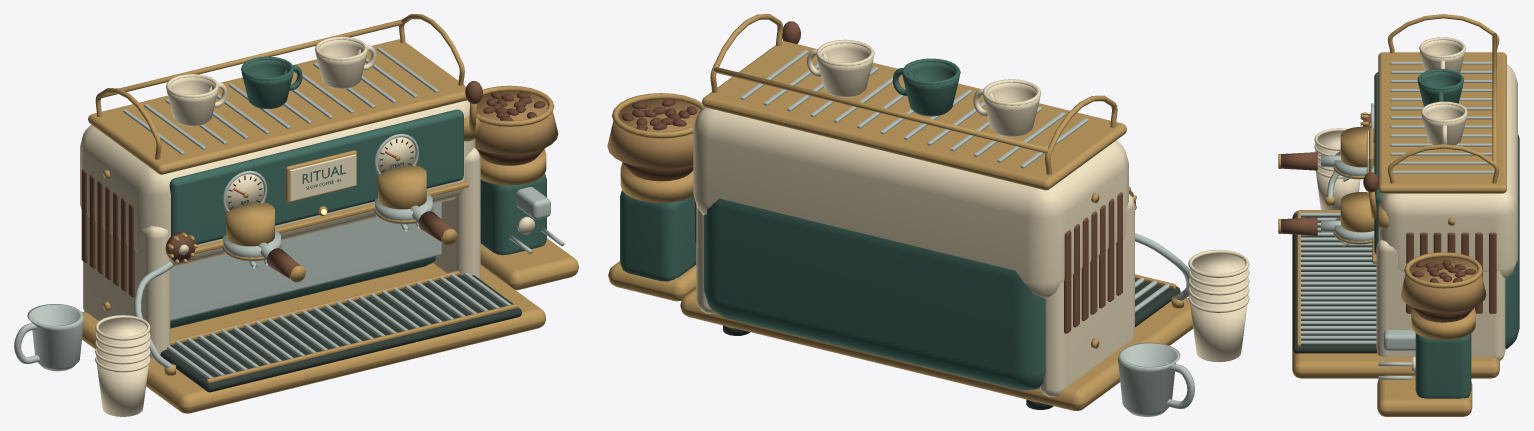
Rendered from espresso-machine.glb.
3 renders of one model, left to right at view 1: azimuth 30°, elevation 25°; view 2: azimuth 150°, elevation 25°; view 3: azimuth 270°, elevation 25°, orthographic. The views are drawn at different scales.
Visible parts, largest first — view 1: espresso-machine_World_Mesh, Companion grinder_Mesh, Cup stack_Mesh, Milk pitcher_Mesh, Warming porcelain_Mesh, Warming porcelain.001_Mesh, Warming porcelain.002_Mesh, machine_SteamWand_Mesh, machine_Lever_Mesh, Walnut portafilter grip_Mesh, Walnut portafilter grip.001_Mesh, machine_SteamWheel_Mesh; view 2: espresso-machine_World_Mesh, Companion grinder_Mesh, Cup stack_Mesh, Milk pitcher_Mesh, Warming porcelain_Mesh, Warming porcelain.001_Mesh, Warming porcelain.002_Mesh, machine_SteamWand_Mesh; view 3: espresso-machine_World_Mesh, Companion grinder_Mesh, Cup stack_Mesh, Warming porcelain.002_Mesh, Warming porcelain.001_Mesh, Warming porcelain_Mesh, Walnut portafilter grip_Mesh, Walnut portafilter grip.001_Mesh, machine_Lever_Mesh, machine_SteamWand_Mesh.
Part boxes in pixels (<box>): espresso-machine_World_Mesh: <box>80,14,545,413</box>; Companion grinder_Mesh: <box>475,85,578,290</box>; Cup stack_Mesh: <box>95,315,150,416</box>; Milk pitcher_Mesh: <box>14,304,83,371</box>; Warming porcelain_Mesh: <box>166,74,227,126</box>; Warming porcelain.001_Mesh: <box>241,56,302,108</box>; Warming porcelain.002_Mesh: <box>315,36,376,88</box>; machine_SteamWand_Mesh: <box>134,261,175,375</box>; machine_Lever_Mesh: <box>464,81,482,141</box>; Walnut portafilter grip_Mesh: <box>266,248,305,282</box>; Walnut portafilter grip.001_Mesh: <box>418,211,457,245</box>; machine_SteamWheel_Mesh: <box>165,232,197,263</box>; espresso-machine_World_Mesh: <box>680,14,1193,410</box>; Companion grinder_Mesh: <box>607,93,704,301</box>; Cup stack_Mesh: <box>1188,249,1249,361</box>; Milk pitcher_Mesh: <box>1118,342,1194,416</box>; Warming porcelain_Mesh: <box>973,79,1040,137</box>; Warming porcelain.001_Mesh: <box>892,58,960,116</box>; Warming porcelain.002_Mesh: <box>807,39,874,97</box>; machine_SteamWand_Mesh: <box>1135,233,1189,308</box>; espresso-machine_World_Mesh: <box>1292,14,1519,378</box>; Companion grinder_Mesh: <box>1377,252,1486,416</box>; Cup stack_Mesh: <box>1314,128,1360,209</box>; Warming porcelain.002_Mesh: <box>1421,101,1467,145</box>; Warming porcelain.001_Mesh: <box>1417,69,1464,106</box>; Warming porcelain_Mesh: <box>1419,37,1465,73</box>; Walnut portafilter grip_Mesh: <box>1278,152,1317,170</box>; Walnut portafilter grip.001_Mesh: <box>1278,217,1317,235</box>; machine_Lever_Mesh: <box>1363,172,1389,228</box>; machine_SteamWand_Mesh: <box>1324,171,1338,205</box>.
Size of the model in its own units: 3.02 by 1.41 by 1.35.
